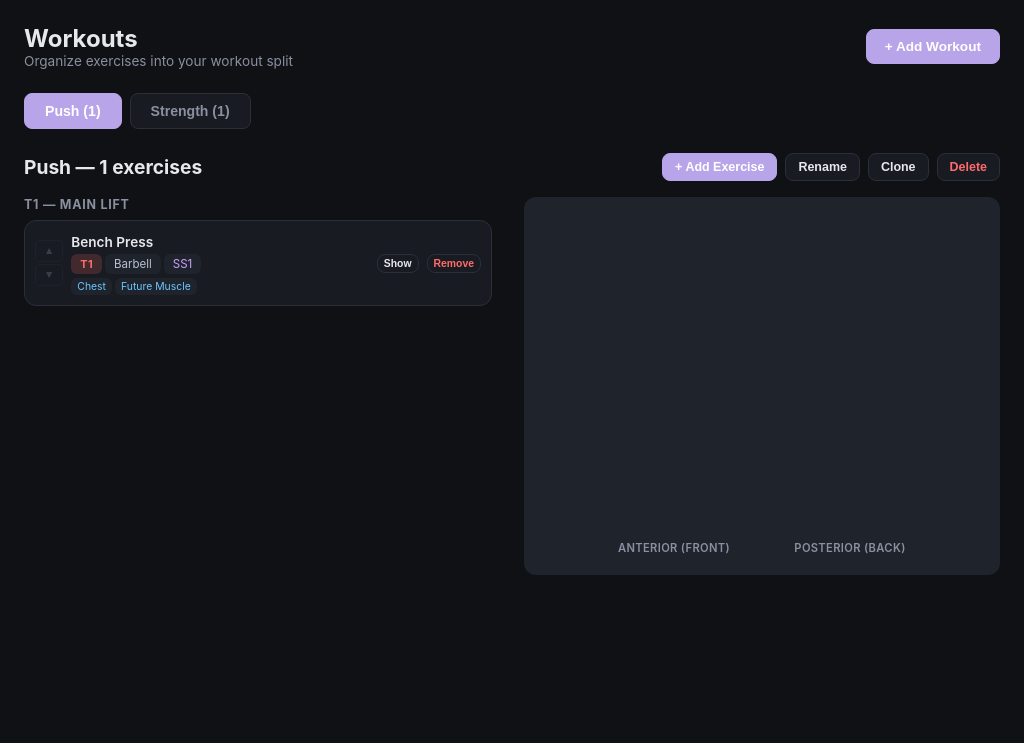
Test case: exercise details navigation › navigates from Workouts without intercepting Show, Remove, or reorder
This screenshot has width=1024, height=743.
Expected: the button "Show" is shown, [377,254,418,272]
Expected: the button "Remove" is shown, [427,254,481,272]
What coordinates should you click on to do the following:
click the link "Bench Press"
I would click on:
 (112, 242)
Its box is [71,234,153,250].
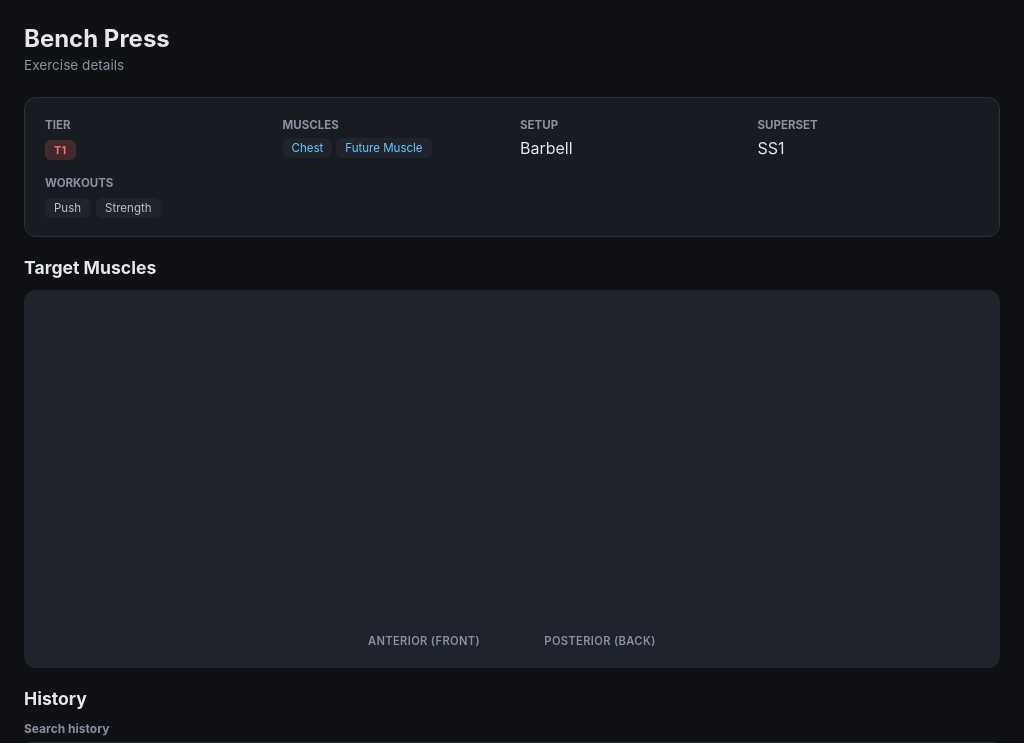
Now the heading "Bench Press" is shown, box [24,24,170,53]
